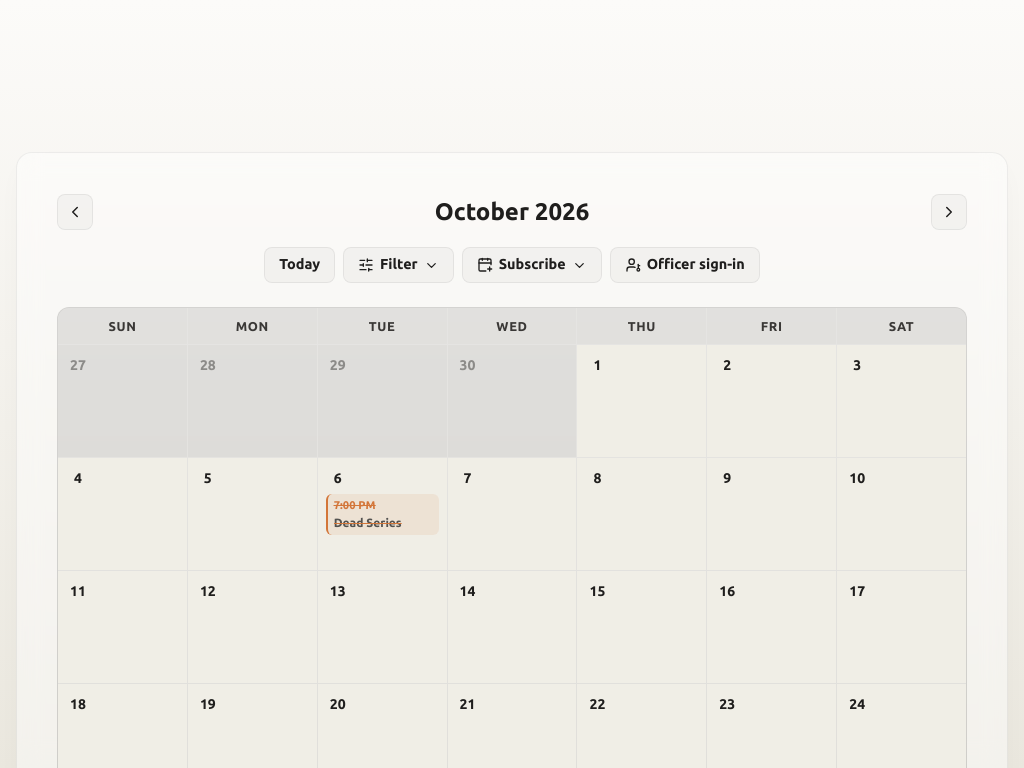
Scenario: Calendar page › per-occurrence cancellations › shows the series-level notice when the whole event is canceled
Click the button "7:00 PM Dead Series": [382, 515] box [326,494,439,535]
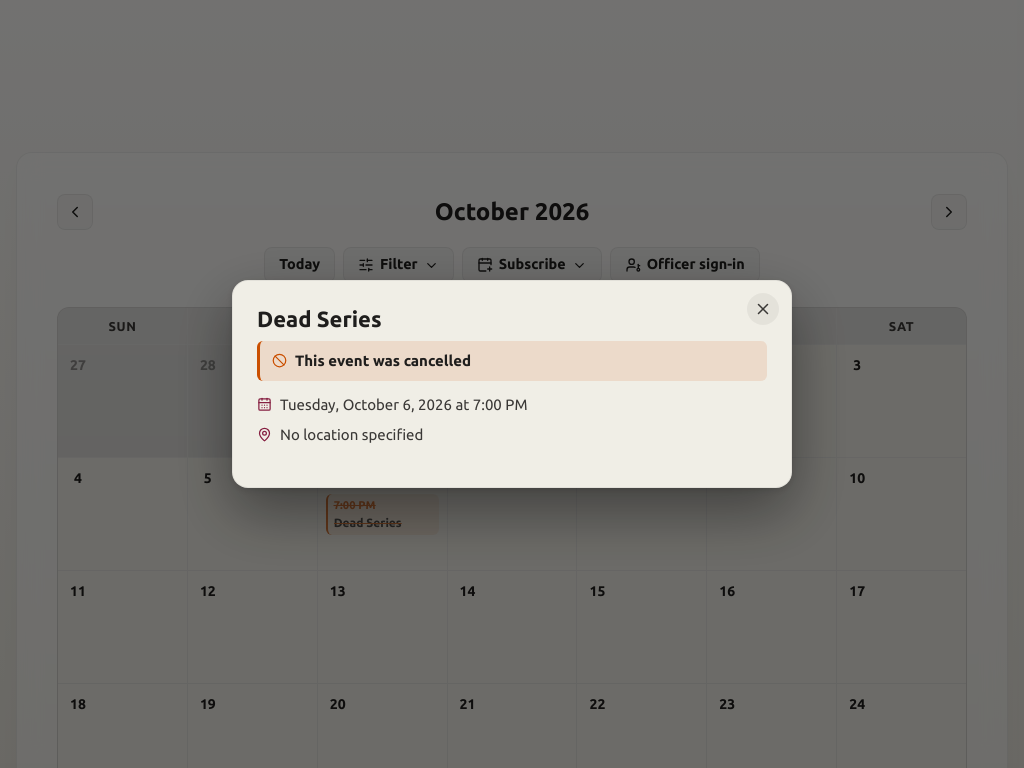
Now the text "This event was cancelled" is shown, box [257,341,767,381]
